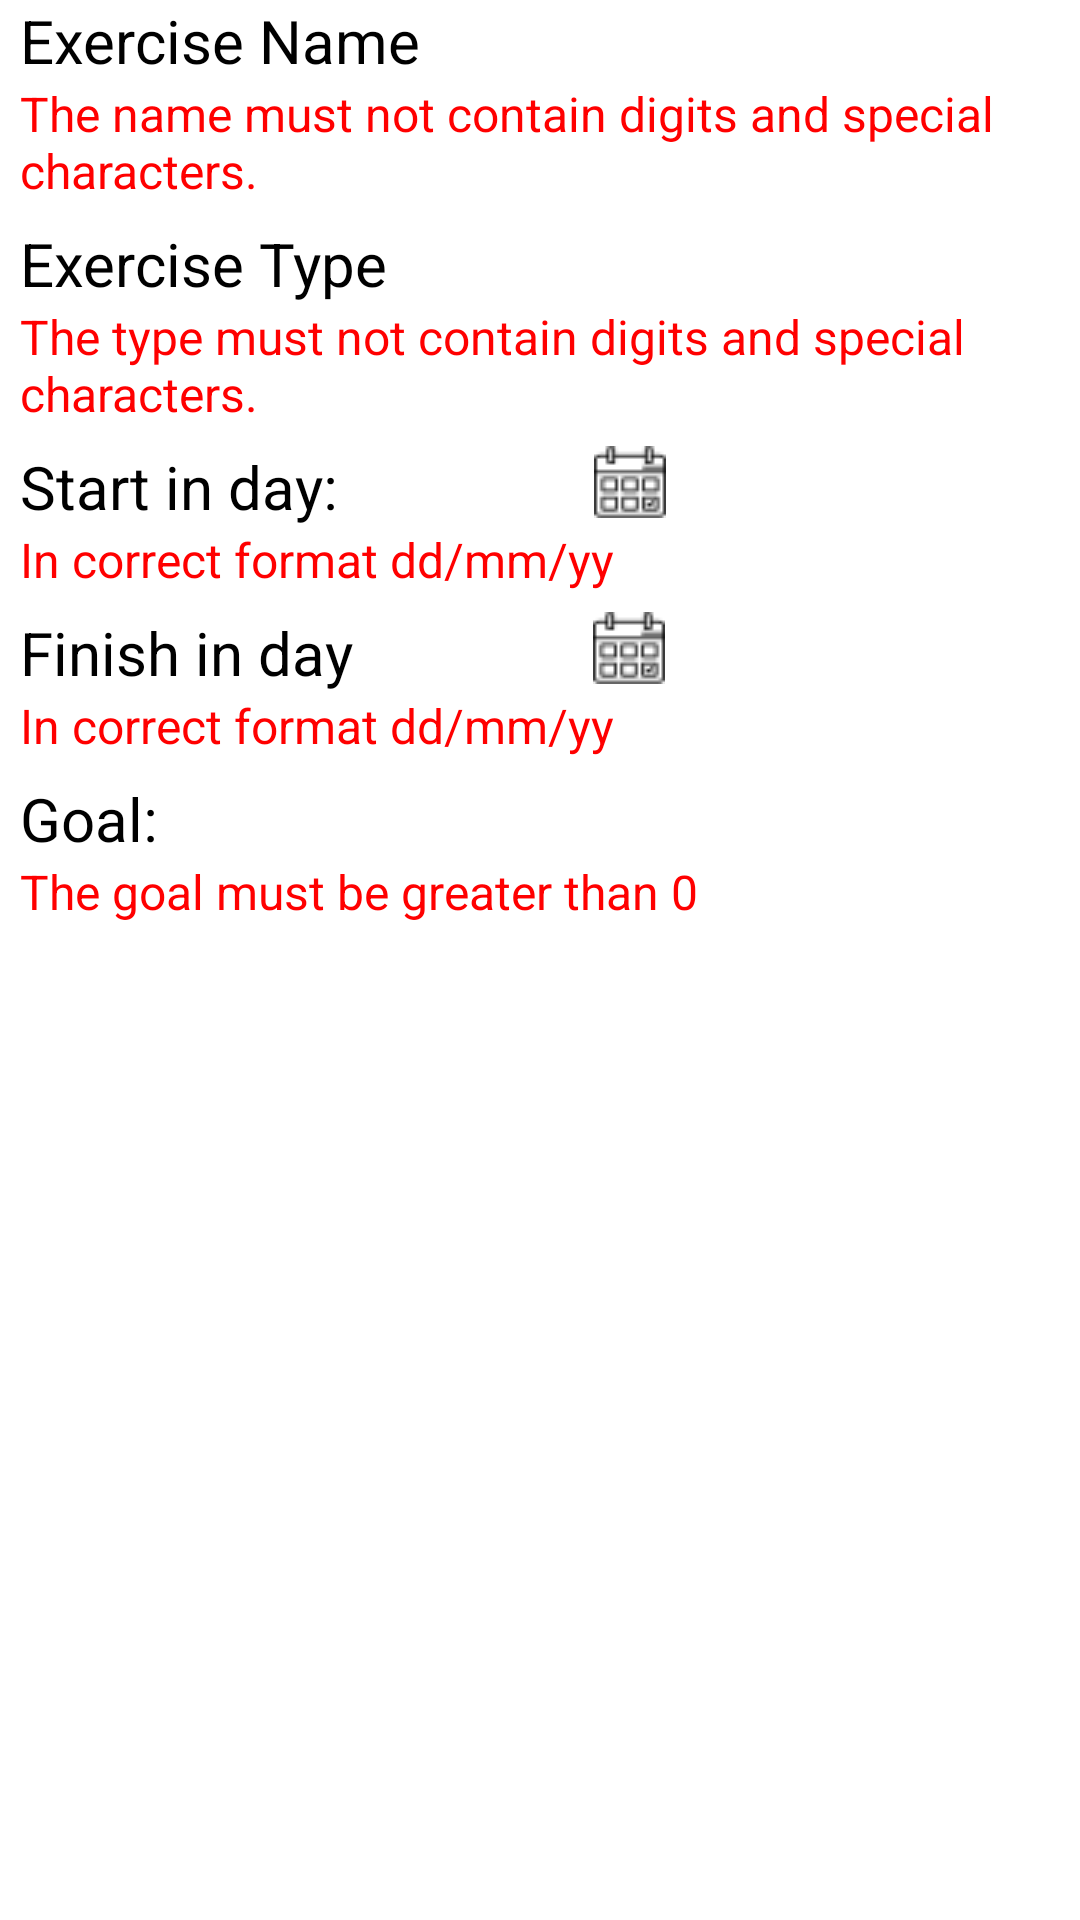

Named icons in this screenshot (1080x1920) and their centers, (x,y):
date: (630,482), (629,648)
